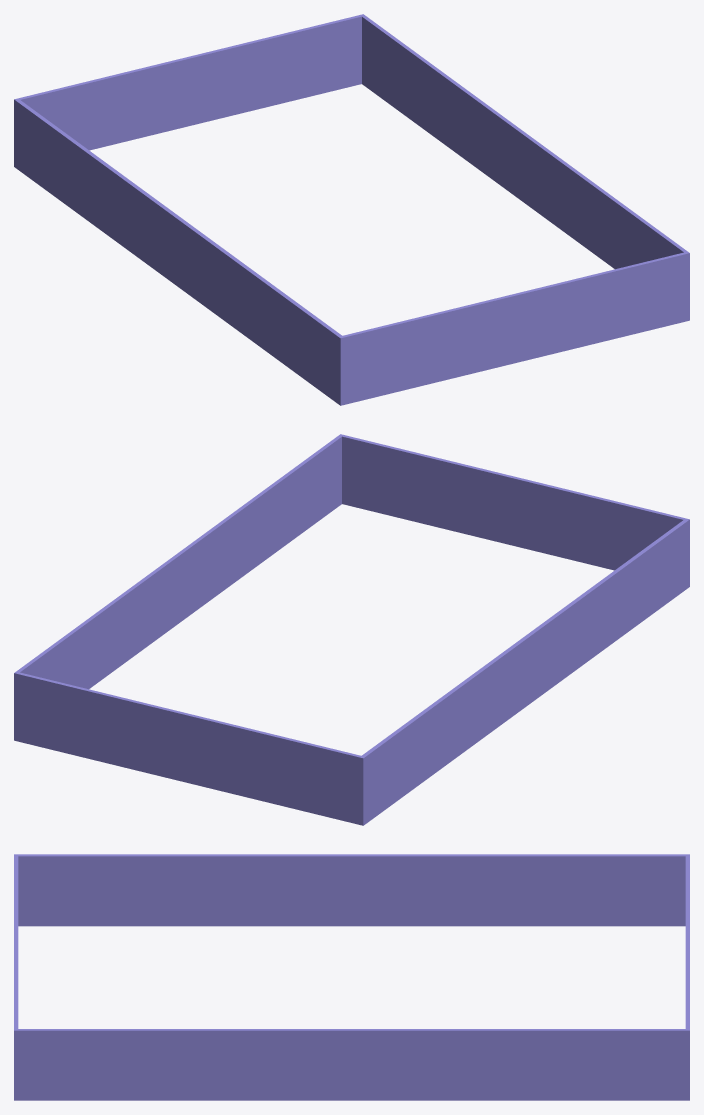
The model's file is wall2.fbx.
3 views of the same model, one above another, from view 1: azimuth 30°, elevation 25°; view 2: azimuth 150°, elevation 25°; view 3: azimuth 270°, elevation 25° (orthographic). The views are drawn at different scales.
Parts seen in each view (by area): view 1: wall_2f; view 2: wall_2f; view 3: wall_2f.
Boxes of the visible parts, <box> form: wall_2f: <box>14,14,689,405</box>; wall_2f: <box>14,434,689,825</box>; wall_2f: <box>14,854,689,1100</box>.
Bounding box in the file's own units: 14088 × 2600 × 22800.
